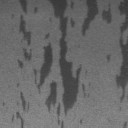red iron: (12, 0, 128, 128), (11, 92, 30, 128), (106, 54, 110, 62), (124, 121, 128, 128), (2, 102, 5, 107), (80, 119, 82, 124)
